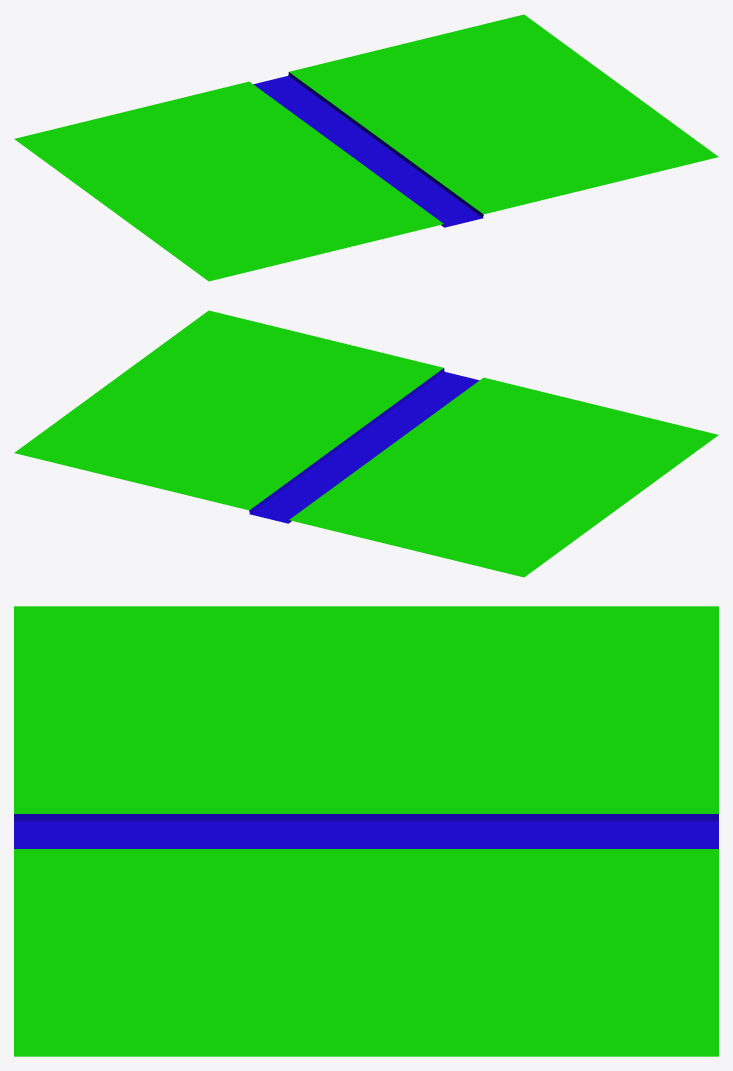
Rendered from tirain.fbx.
3 views of the same model, one above another, from view 1: azimuth 30°, elevation 25°; view 2: azimuth 150°, elevation 25°; view 3: azimuth 270°, elevation 25° (orthographic). The views are drawn at different scales.
Parts seen in each view (by area): view 1: Cube; view 2: Cube; view 3: Cube.
Boxes of the visible parts, <box> form: Cube: <box>14,14,718,281</box>; Cube: <box>14,310,718,577</box>; Cube: <box>14,606,718,1056</box>.
Size of the model in its own units: 8954 by 62.77 by 5922.
